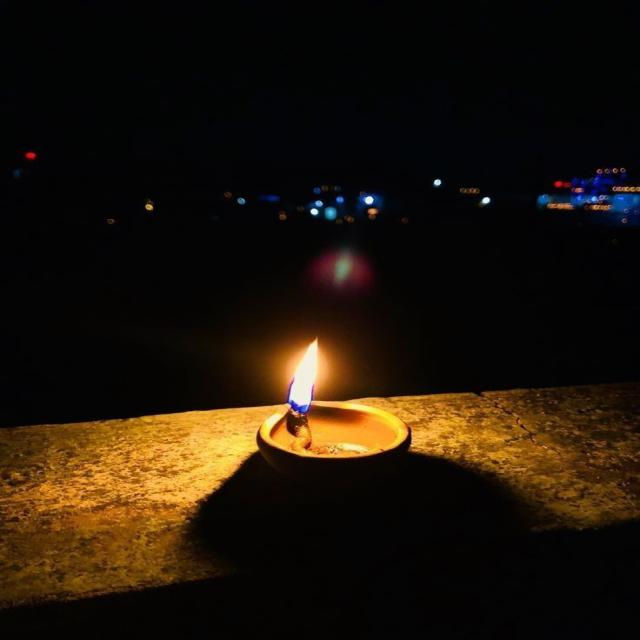fire: (287, 336, 319, 414)
